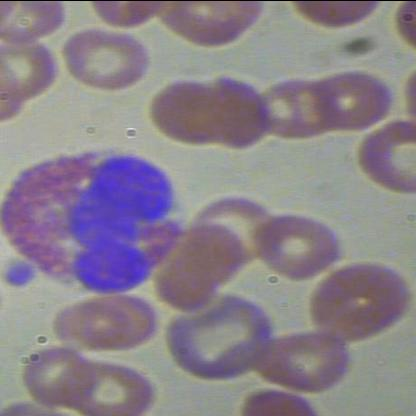RBC: (299, 261, 415, 351), (258, 324, 354, 398), (255, 209, 352, 282), (58, 23, 155, 95), (56, 350, 158, 415), (149, 72, 235, 148), (22, 342, 102, 414), (316, 64, 394, 133)
WBC: (1, 143, 192, 301)
